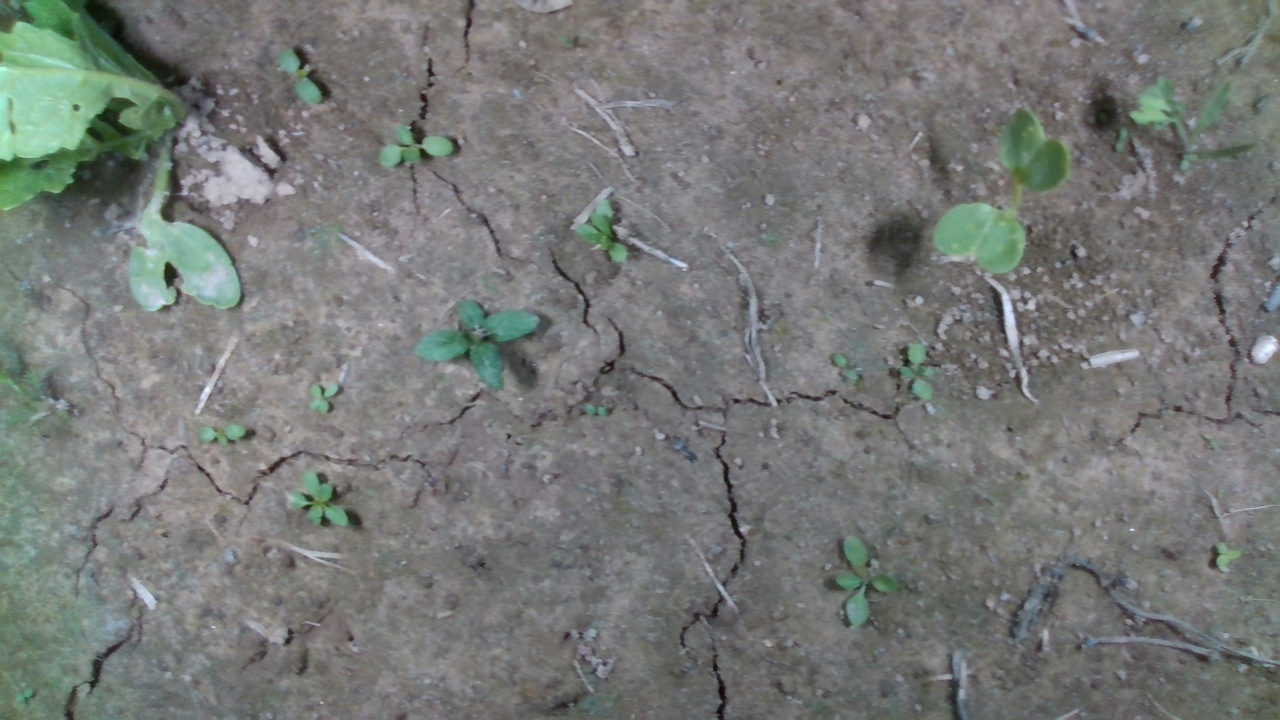weed: (408, 297, 542, 398), (831, 535, 898, 630), (284, 468, 350, 530), (571, 198, 628, 266), (376, 123, 454, 168), (275, 48, 323, 107), (896, 338, 937, 403), (196, 423, 246, 450), (306, 381, 339, 417), (1212, 540, 1242, 573), (831, 352, 858, 384)
